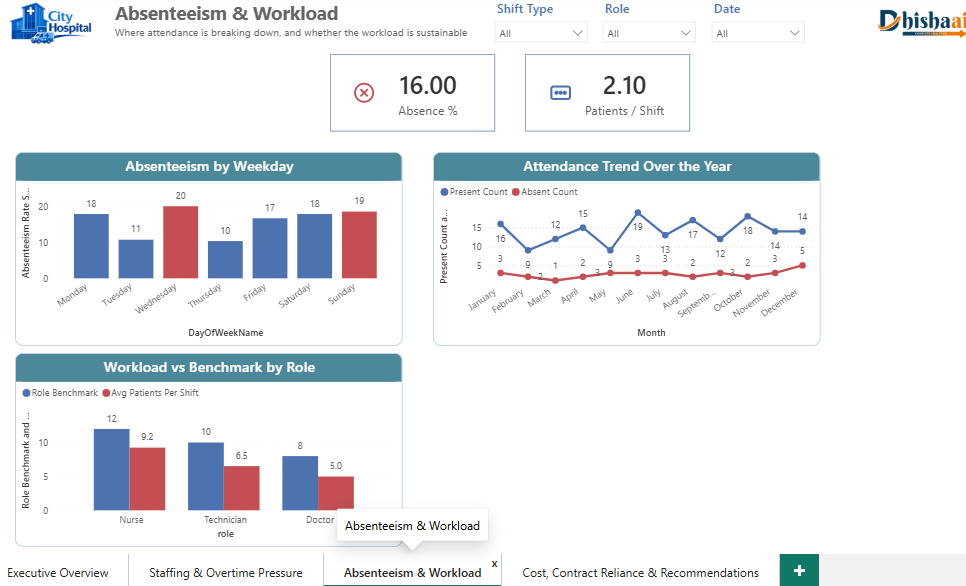

Layout of this report page (visuals, bound fields, positions):
{"tool":"powerbi","page":{"name":"Absenteeism & Workload","canvas":[1280,720],"ordinal":2},"visuals":[{"type":"textbox","box":[154.5,0,1125.4,65.2],"z":0},{"type":"cardVisual","fields":{"Data":["SycTable.Absenteeism Rate Selected"]},"box":[438,75.1,213.3,100],"z":1},{"type":"cardVisual","fields":{"Data":["SycTable.Avg Staffing Gap Selected"]},"box":[688.8,75.1,213.3,100],"z":2},{"type":"slicer","fields":{"Values":["Agg_Staffing_Actual.shift_type"]},"box":[640.6,0,140,65.2],"z":3,"group":"g1"},{"type":"slicer","fields":{"Values":["Dim_Role_Benchmark.role"]},"box":[780.3,0,140,65.2],"z":4,"group":"g1"},{"type":"slicer","fields":{"Values":["Dim_Dates.full_date"]},"box":[920.1,0,140,65],"z":5,"group":"g1"},{"type":"columnChart","title":"Absenteeism by Weekday","fields":{"Category":["Dim_Dates.DayOfWeekName"],"Y":["SycTable.Absenteeism Rate Selected"]},"box":[31.5,201.4,500,250],"z":6},{"type":"clusteredColumnChart","title":"Workload vs Benchmark by Role","fields":{"Category":["Dim_Role_Benchmark.role"],"Y":["Dim_Role_Benchmark.Role Benchmark","SycTable.Avg Patients Per Shift"]},"box":[31.5,460.3,500,250],"z":7},{"type":"image","box":[1138.1,8.5,131.8,53.9],"z":8},{"type":"lineChart","title":"Attendance Trend Over the Year","fields":{"Y":["Fact_Shifts.Present Count","Fact_Shifts.Absent Count"],"Category":["Dim_Dates.full_date.Variation.Date Hierarchy.Month"]},"box":[569.8,201.3,500,250],"z":9},{"type":"group","id":"g1","title":"Group 1","box":[640.6,0,419.5,65.2],"z":10},{"type":"image","box":[0,1.4,154.5,66.6],"z":11}]}

Visuals, with their boxes on the page's 1280x720 design canvas (x1, y1, x2, y2). These are canvas units, not pixel positions in the 966x586 screenshot, which may show the page scaled, cropped or inside an application window:
textbox: 154:0:1280:65
cardVisual - SycTable.Absenteeism Rate Selected: 438:75:651:175
cardVisual - SycTable.Avg Staffing Gap Selected: 689:75:902:175
slicer - Agg_Staffing_Actual.shift_type: 641:0:781:65
slicer - Dim_Role_Benchmark.role: 780:0:920:65
slicer - Dim_Dates.full_date: 920:0:1060:65
"Absenteeism by Weekday" columnChart: 32:201:532:451
"Workload vs Benchmark by Role" clusteredColumnChart: 32:460:532:710
image: 1138:8:1270:62
"Attendance Trend Over the Year" lineChart: 570:201:1070:451
"Group 1" group: 641:0:1060:65
image: 0:1:154:68
